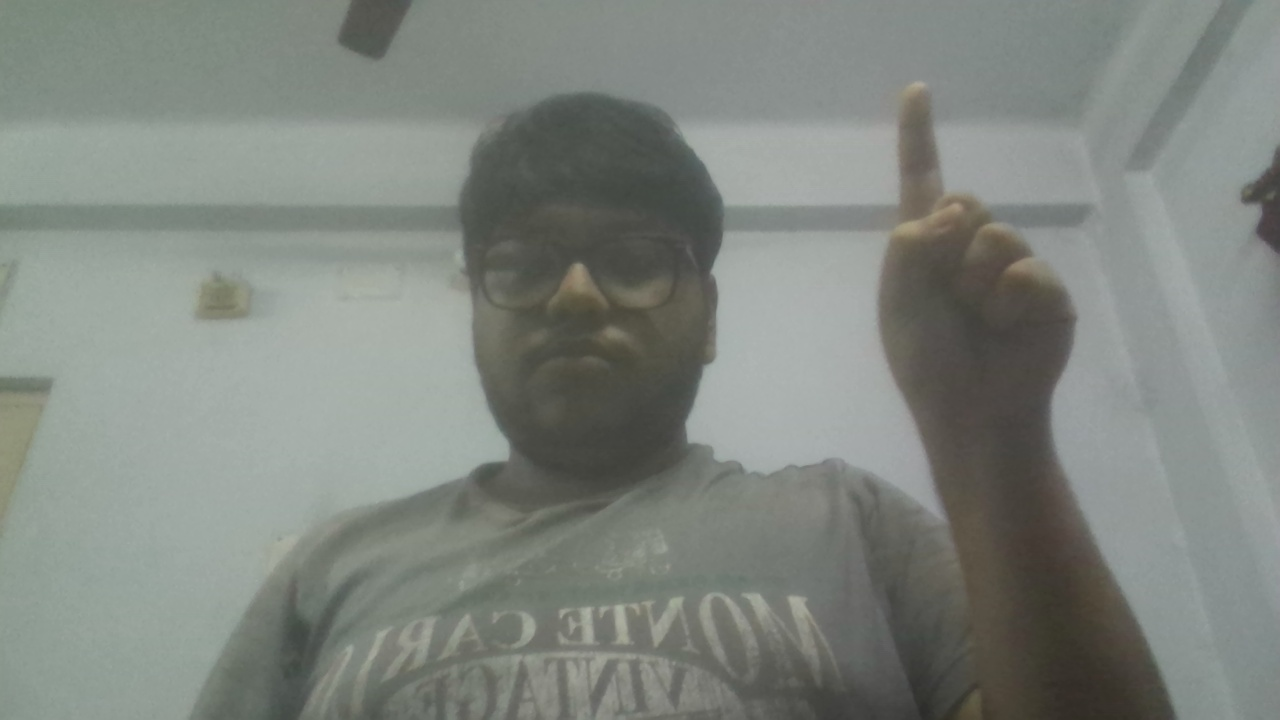Gesture1: (865, 71, 1094, 471)
